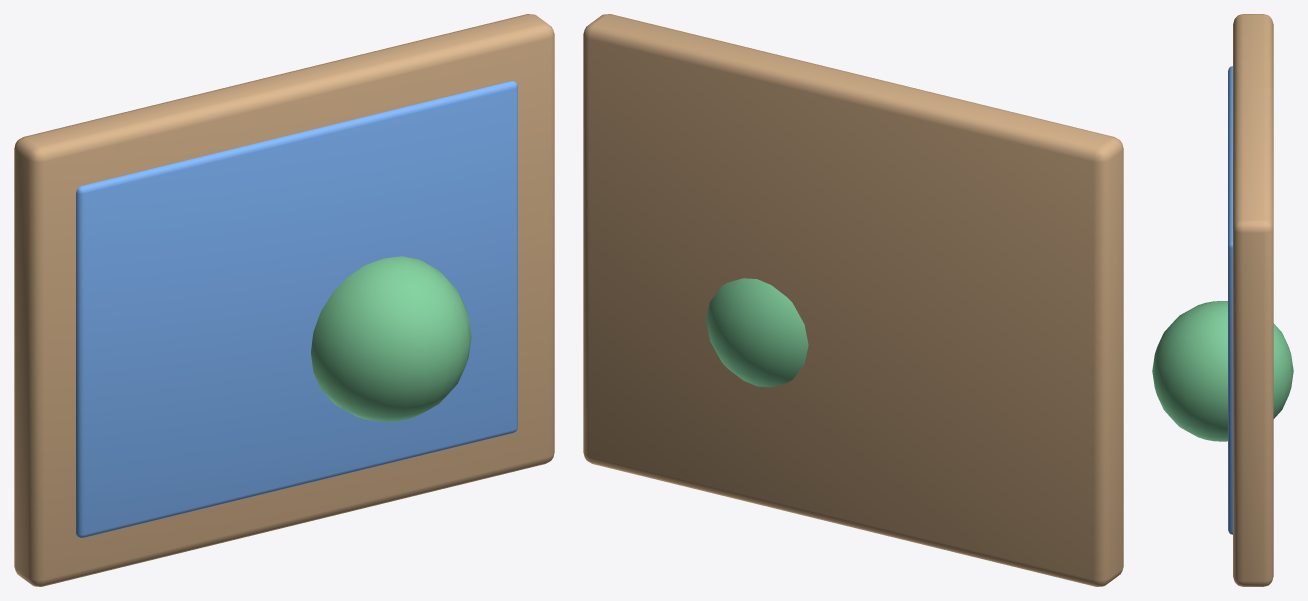
Rendered from picture.glb.
The picture shows the model from 3 angles, left to right: view 1: azimuth 30°, elevation 25°; view 2: azimuth 150°, elevation 25°; view 3: azimuth 270°, elevation 25°; orthographic projection. The views are drawn at different scales.
Visible parts, largest first — view 1: picture; view 2: picture; view 3: picture.
Boxes of the visible parts, box(x1,y1,x2,y2) form: picture: box(14, 14, 554, 586); picture: box(583, 14, 1123, 586); picture: box(1152, 14, 1293, 586).
Size of the model in its own units: 0.5 by 0.4 by 0.14.
